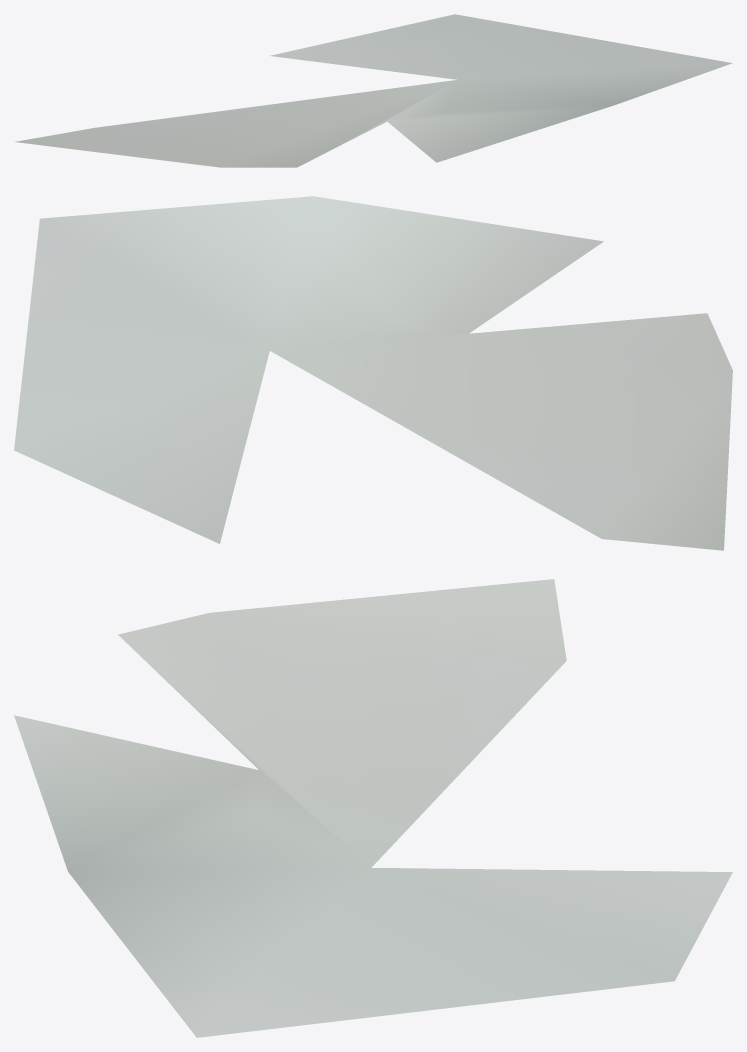
File: midPoint6-transformed.glb
3 renders of one model, top to bottom at view 1: azimuth 30°, elevation 25°; view 2: azimuth 150°, elevation 25°; view 3: azimuth 270°, elevation 25°, orthographic. The views are drawn at different scales.
Visible parts, largest first — view 1: Tile_6.001; view 2: Tile_6.001; view 3: Tile_6.001.
Boxes of the visible parts, <box> form: Tile_6.001: <box>15,14,732,167</box>; Tile_6.001: <box>14,196,732,550</box>; Tile_6.001: <box>14,579,732,1037</box>.
Bounding box in the file's own units: 0.4211 × 0.0464 × 0.2679.
1 material, 1 textured.
